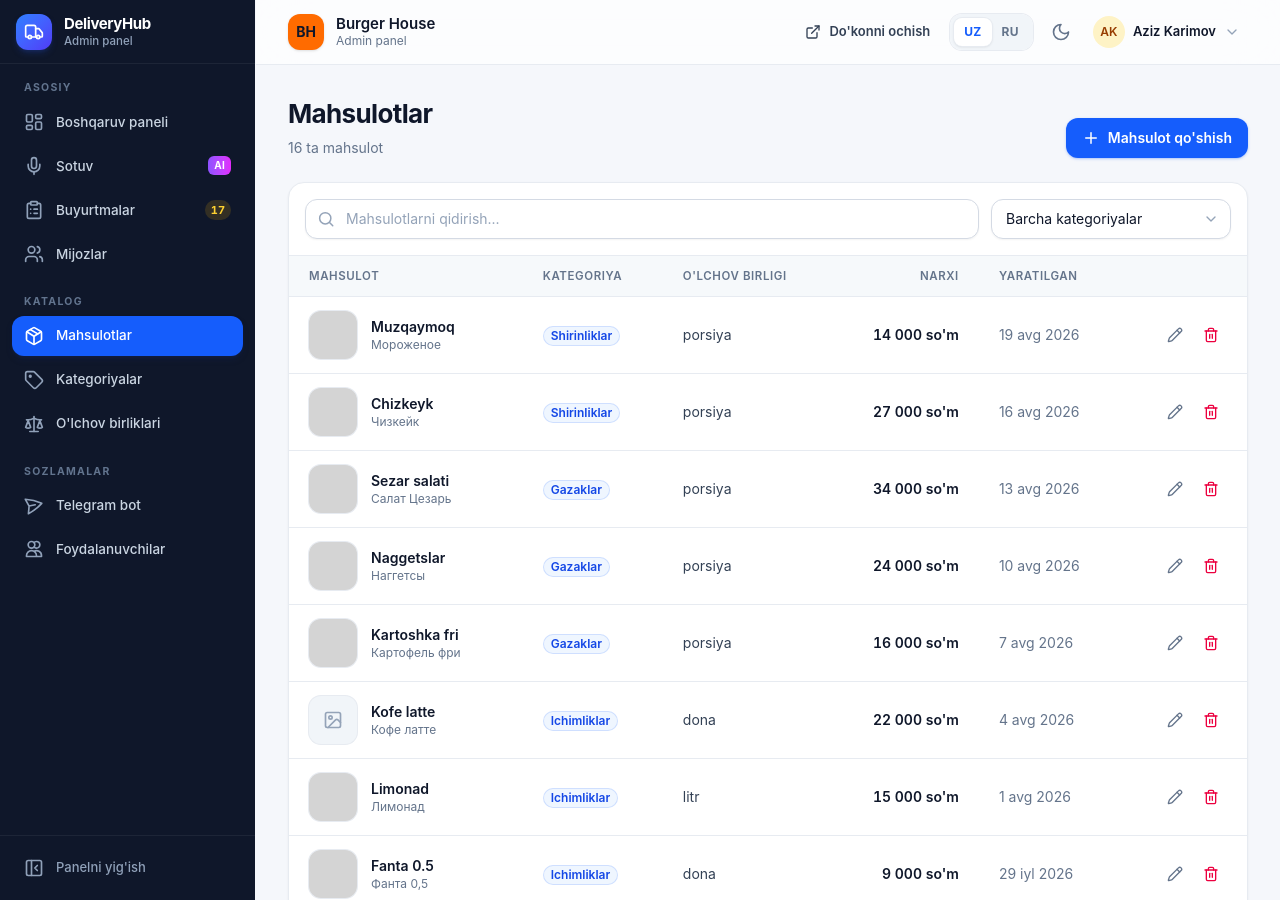
Test: products › filters the list by category and search
Expected: the link "Muzqaymoq" is shown, [371,317,455,337]
Select "Pitsa" in the dropdown named "Kategoriya" at (1111, 219), box [991,199,1231,239]
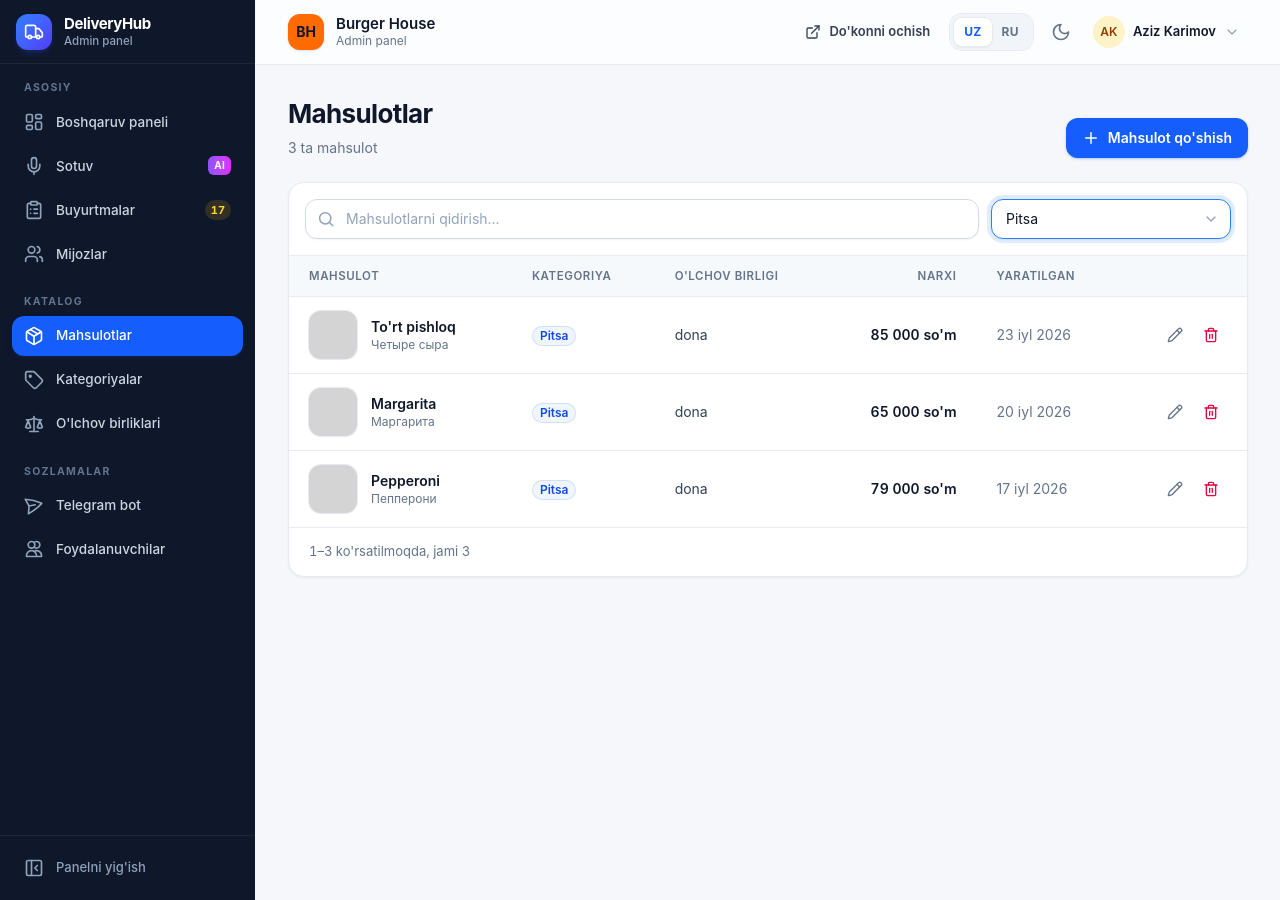
Expected: the link "Pepperoni" is shown, [371,471,440,491]
Expected: the link "Muzqaymoq" is gone
Type "marg" into the search field at (642, 219), box [305,199,979,239]
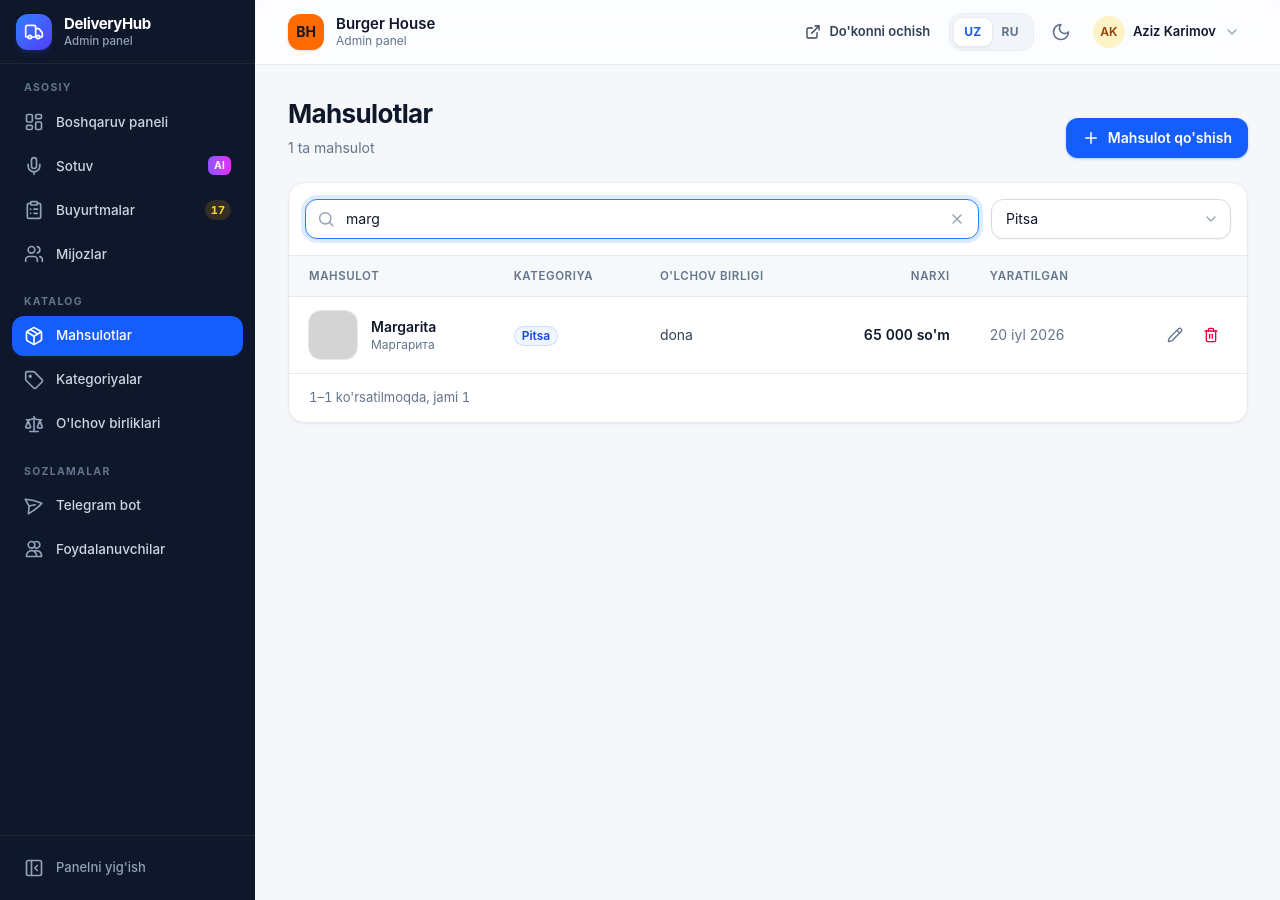
Expected: the link "Margarita" is shown, [371,317,436,337]
Expected: the link "Pepperoni" is gone
